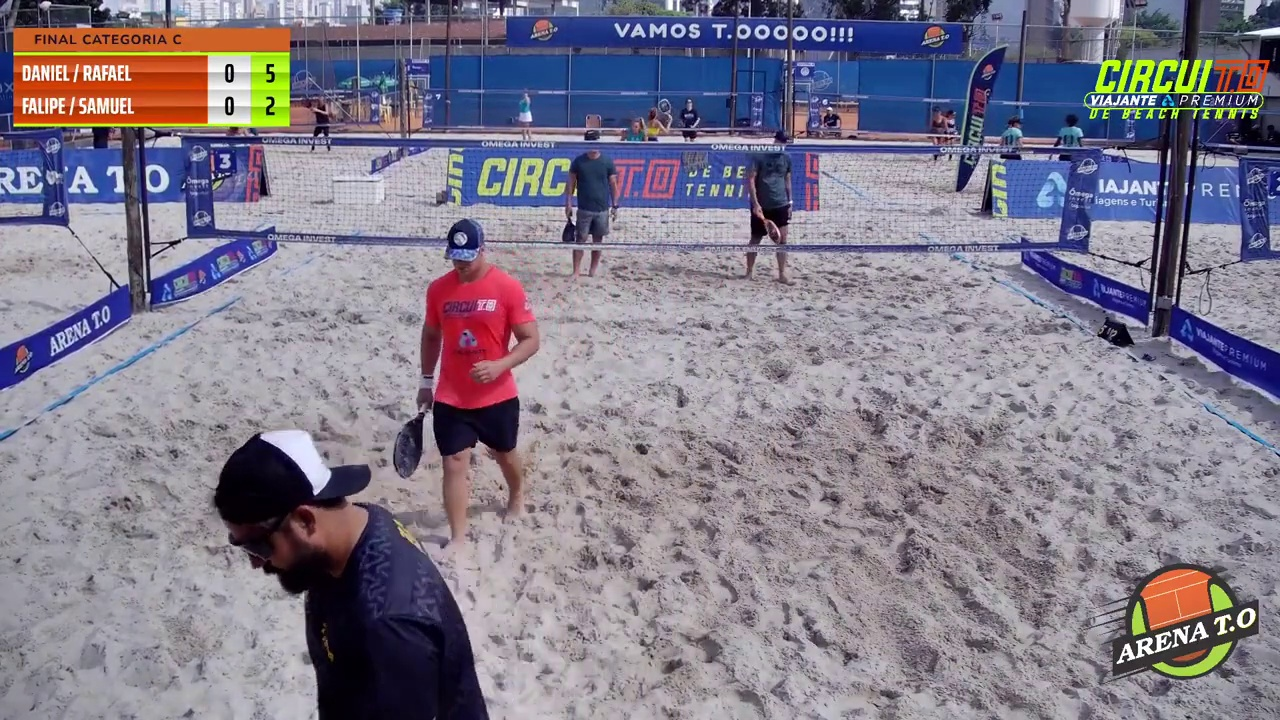court_line: (623, 0, 810, 517)
